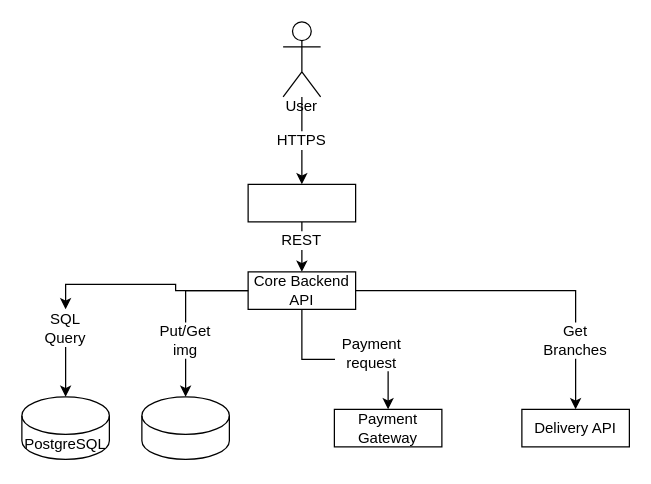
Some shapes in this 651 by 484 pixel diagram are drawn without their labels. The shapes that lost their labels are listed below. From the top down, each one's centre as x and y in pixels, then its label:
At (x=301, y=202): "Store Frontend".
At (x=185, y=427): "Image Storage".
